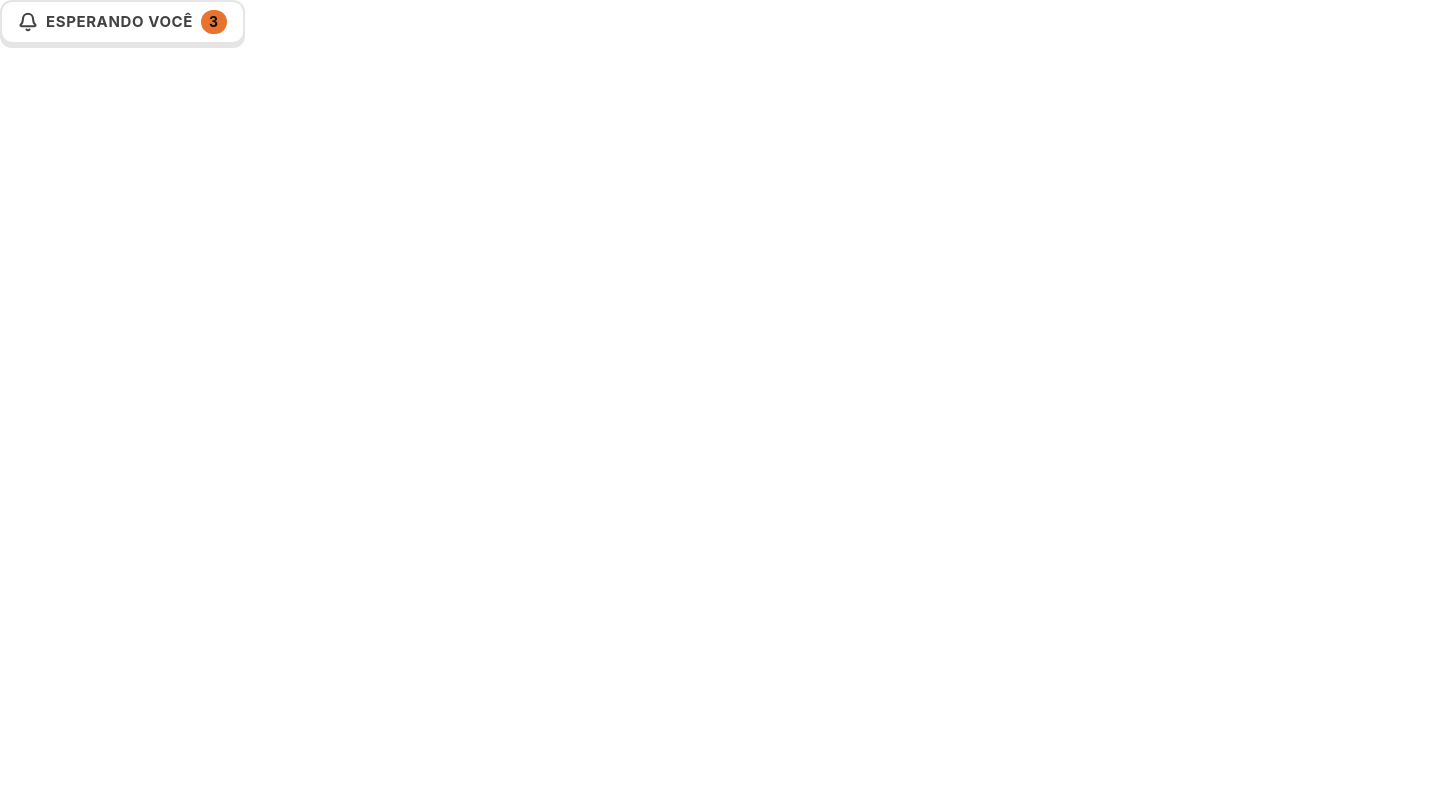
Scenario: a lista "Esperando você" › traz os grupos "Urgente" e "Da escola", cada item um link para a tela que resolve, e o contador só no que o tem
The width and height of the screenshot is (1440, 810).
Click the button with aria-label "Esperando você, 3" at x=122, y=22, box [0,0,245,44]
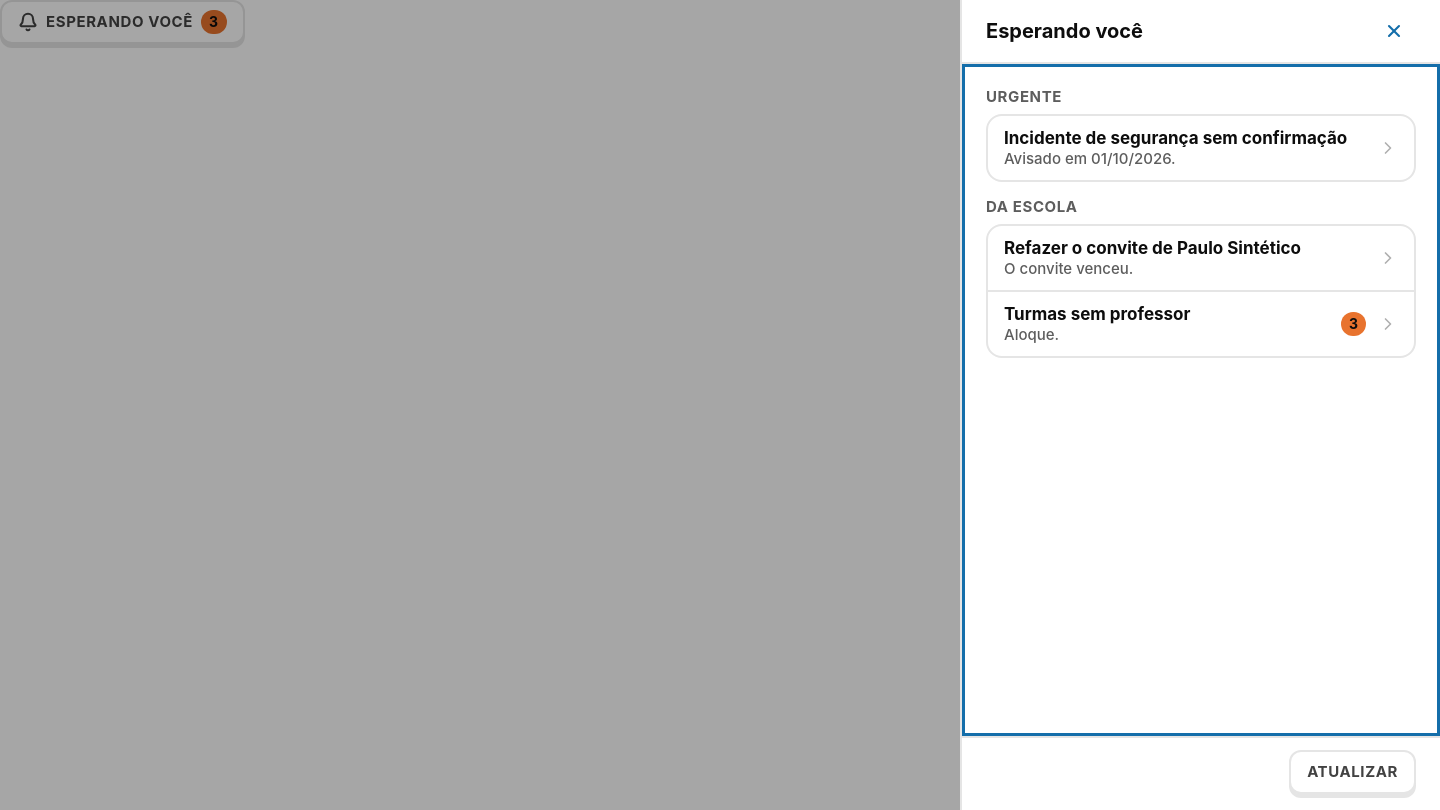
Expected: the link "Turmas sem professor Aloque. 3" is shown, [988,292,1414,356]
